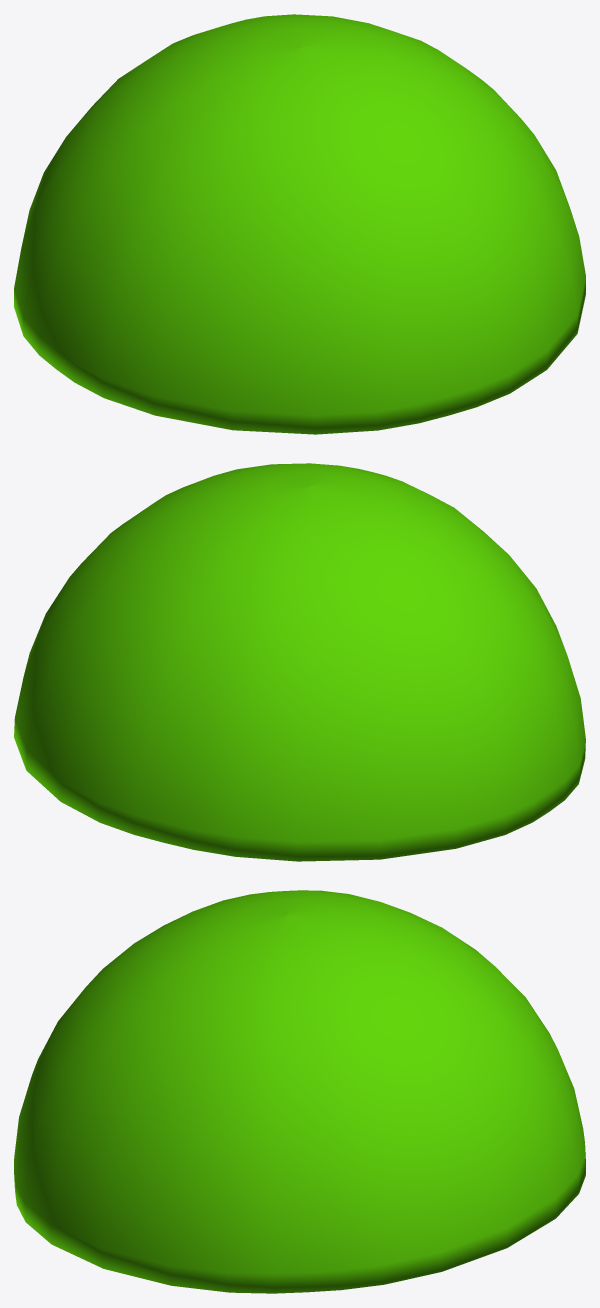
The model's file is greenslime.fbx.
3 renders of one model, top to bottom at view 1: azimuth 30°, elevation 25°; view 2: azimuth 150°, elevation 25°; view 3: azimuth 270°, elevation 25°, orthographic.
Parts seen in each view (by area): view 1: SurfSphere; view 2: SurfSphere; view 3: SurfSphere.
Part boxes in pixels (<box>): SurfSphere: <box>14,14,585,434</box>; SurfSphere: <box>14,463,585,861</box>; SurfSphere: <box>14,890,585,1293</box>.
Bounding box in the file's own units: 1.99 × 1.05 × 2.
